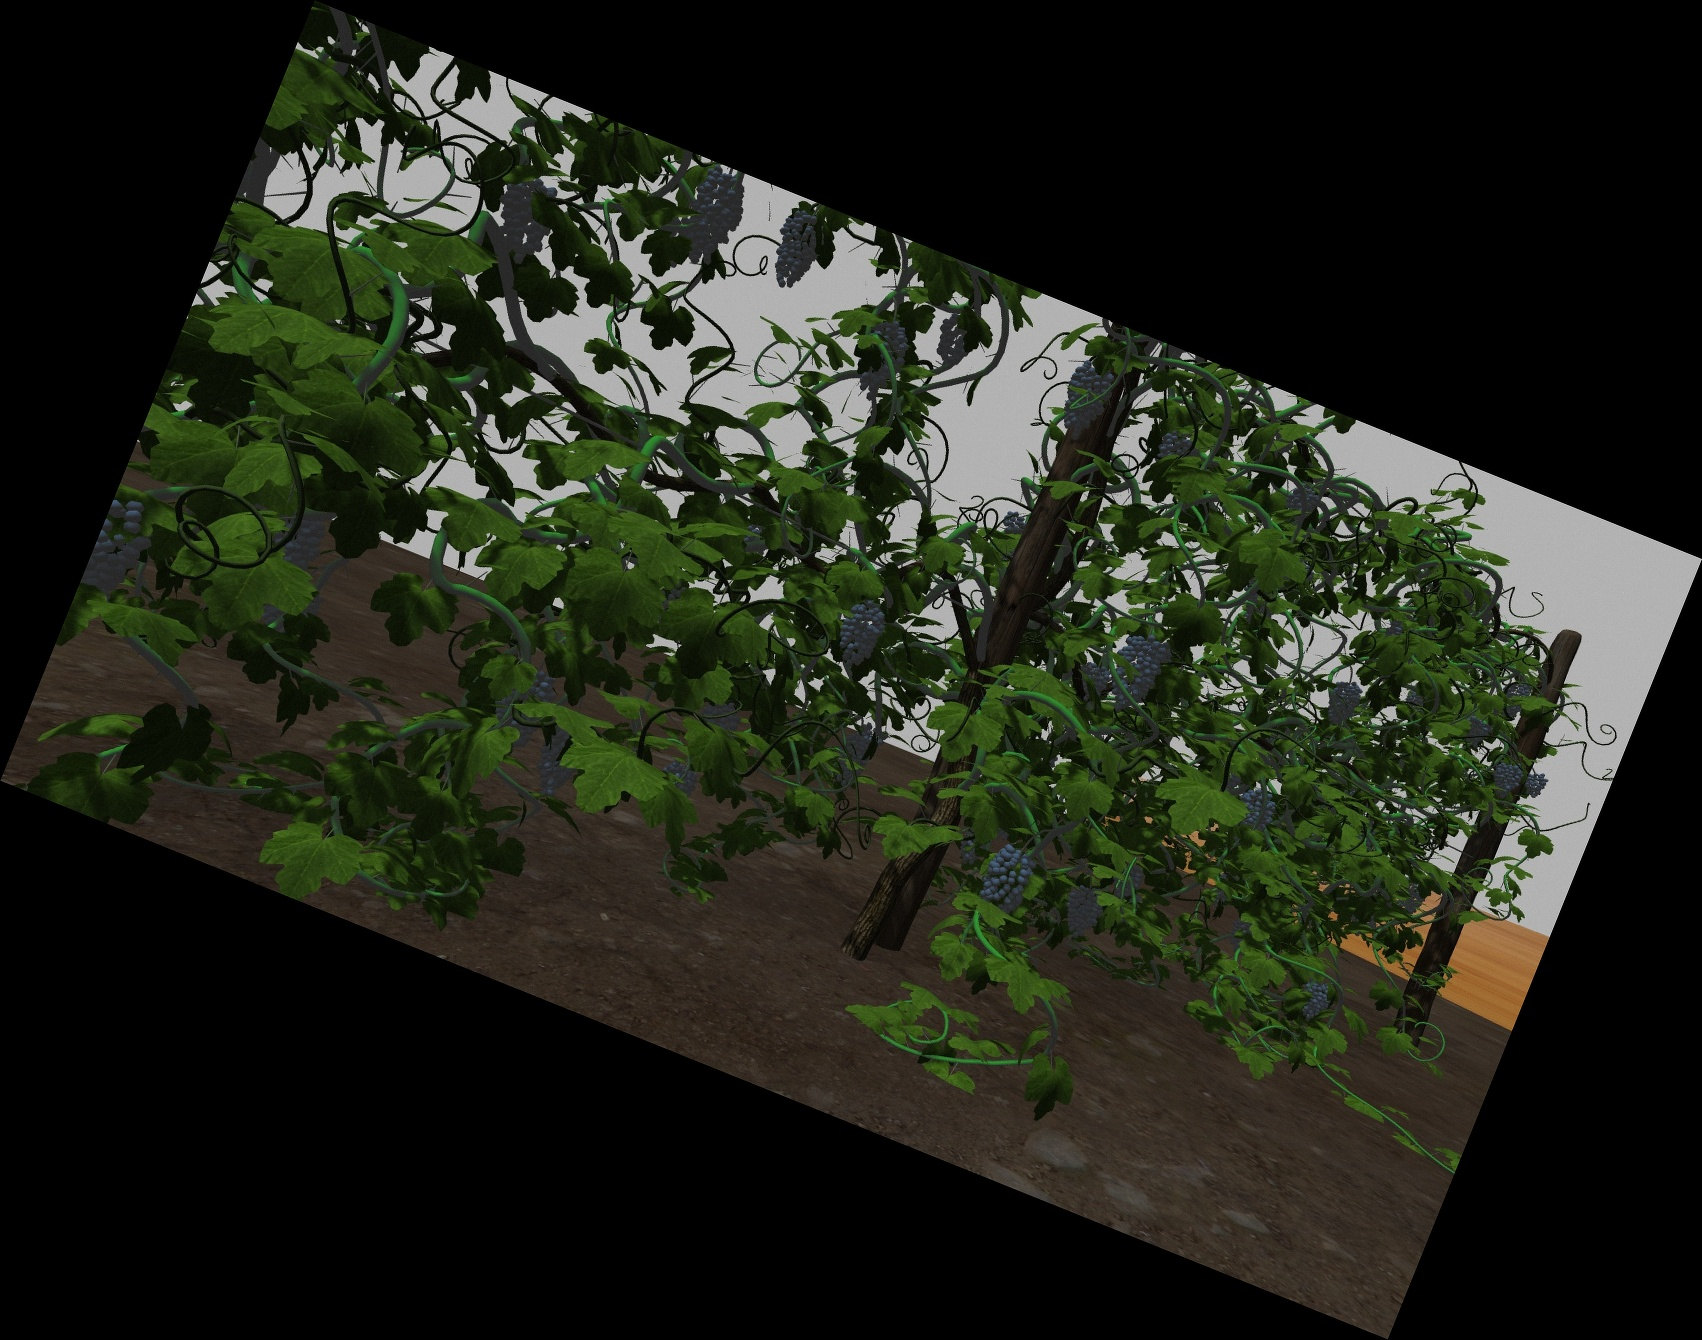grape: (688, 173, 739, 267), (496, 177, 553, 261), (1111, 635, 1160, 713), (859, 320, 903, 399), (1061, 363, 1107, 439), (775, 211, 816, 287), (540, 720, 580, 794), (985, 845, 1029, 910), (839, 601, 883, 664), (937, 312, 974, 365), (843, 722, 872, 787), (1064, 886, 1100, 937), (1238, 787, 1274, 829), (1297, 979, 1330, 1020), (1329, 680, 1358, 725), (1493, 757, 1522, 796), (1160, 430, 1192, 461), (1079, 664, 1107, 698), (1506, 680, 1529, 716), (1288, 486, 1315, 515), (1464, 716, 1489, 745), (1525, 772, 1545, 798)
